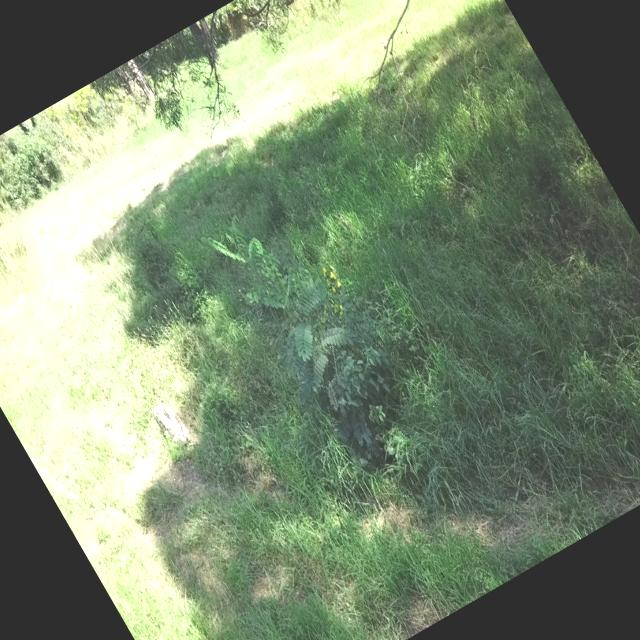Mysore-Thorn-Weed: (192, 184, 415, 477)
